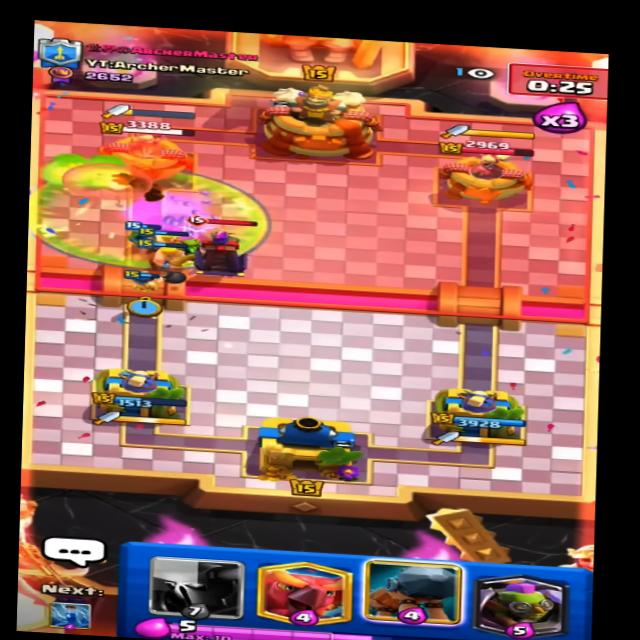evo-tesla: (185, 214, 272, 280)
